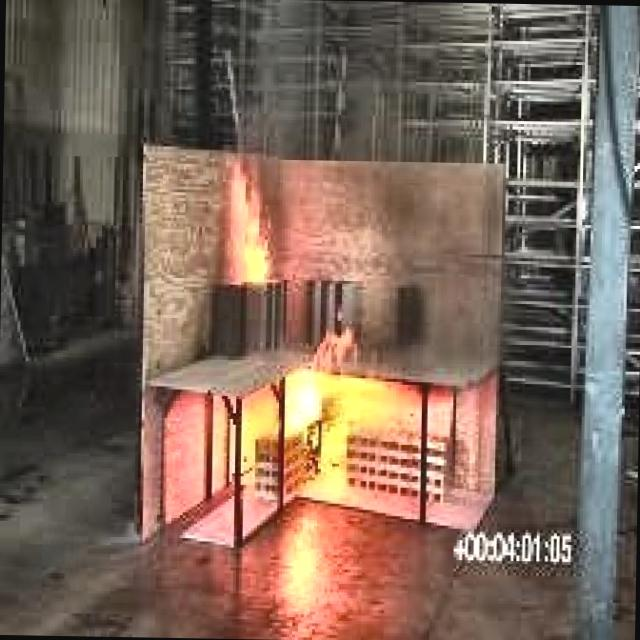fire: (272, 348, 383, 503), (209, 172, 294, 306)
